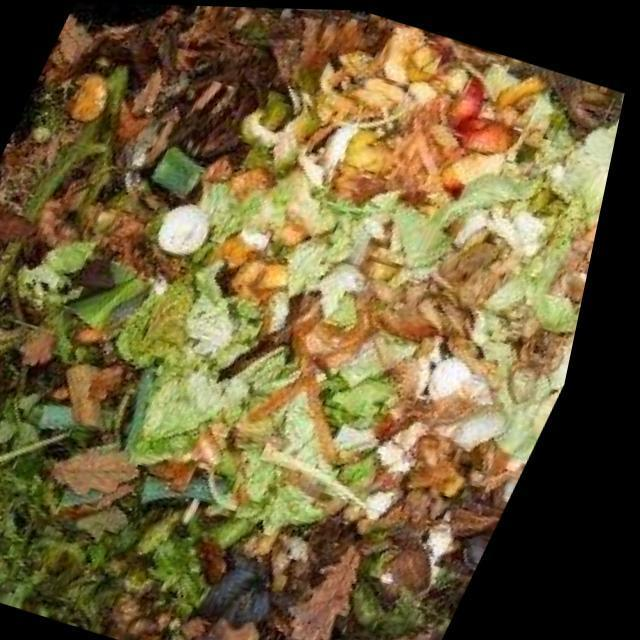Garbage: (0, 2, 628, 640)
